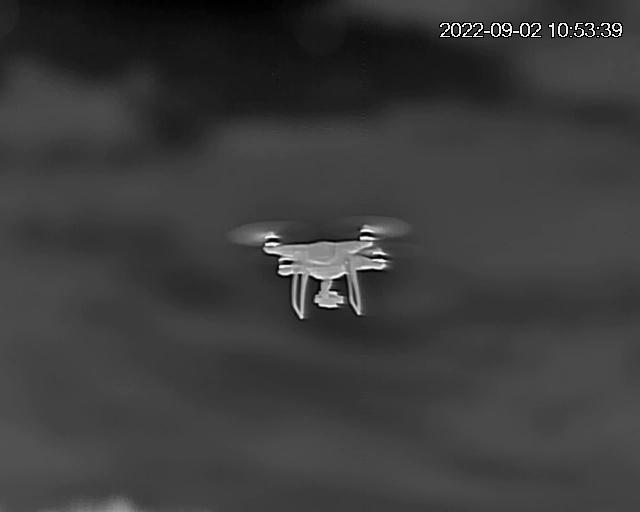DJI-Phantom: (229, 219, 414, 317)
